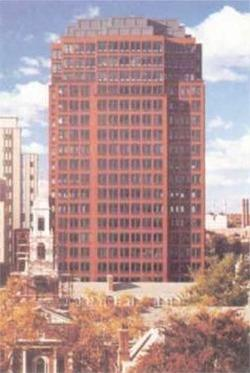building: (46, 16, 206, 282)
